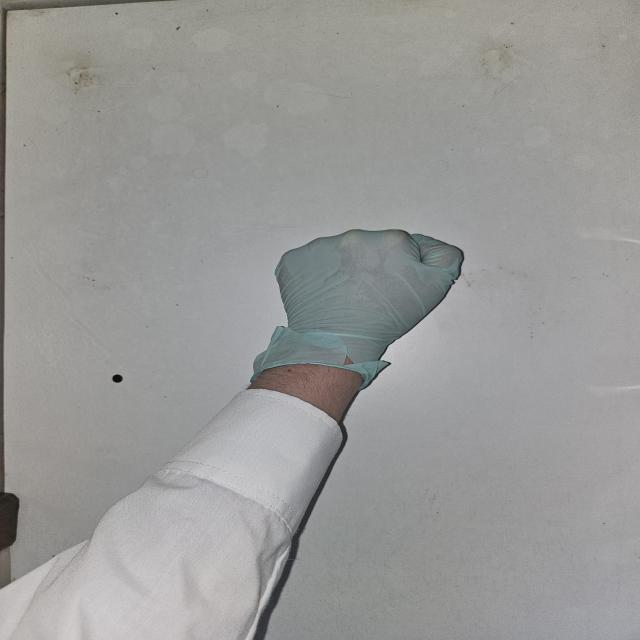gloves_damaged: (250, 227, 466, 393)
